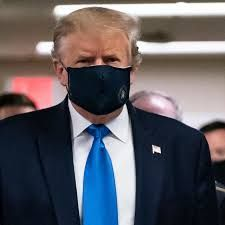with-mask: (52, 20, 145, 125)
